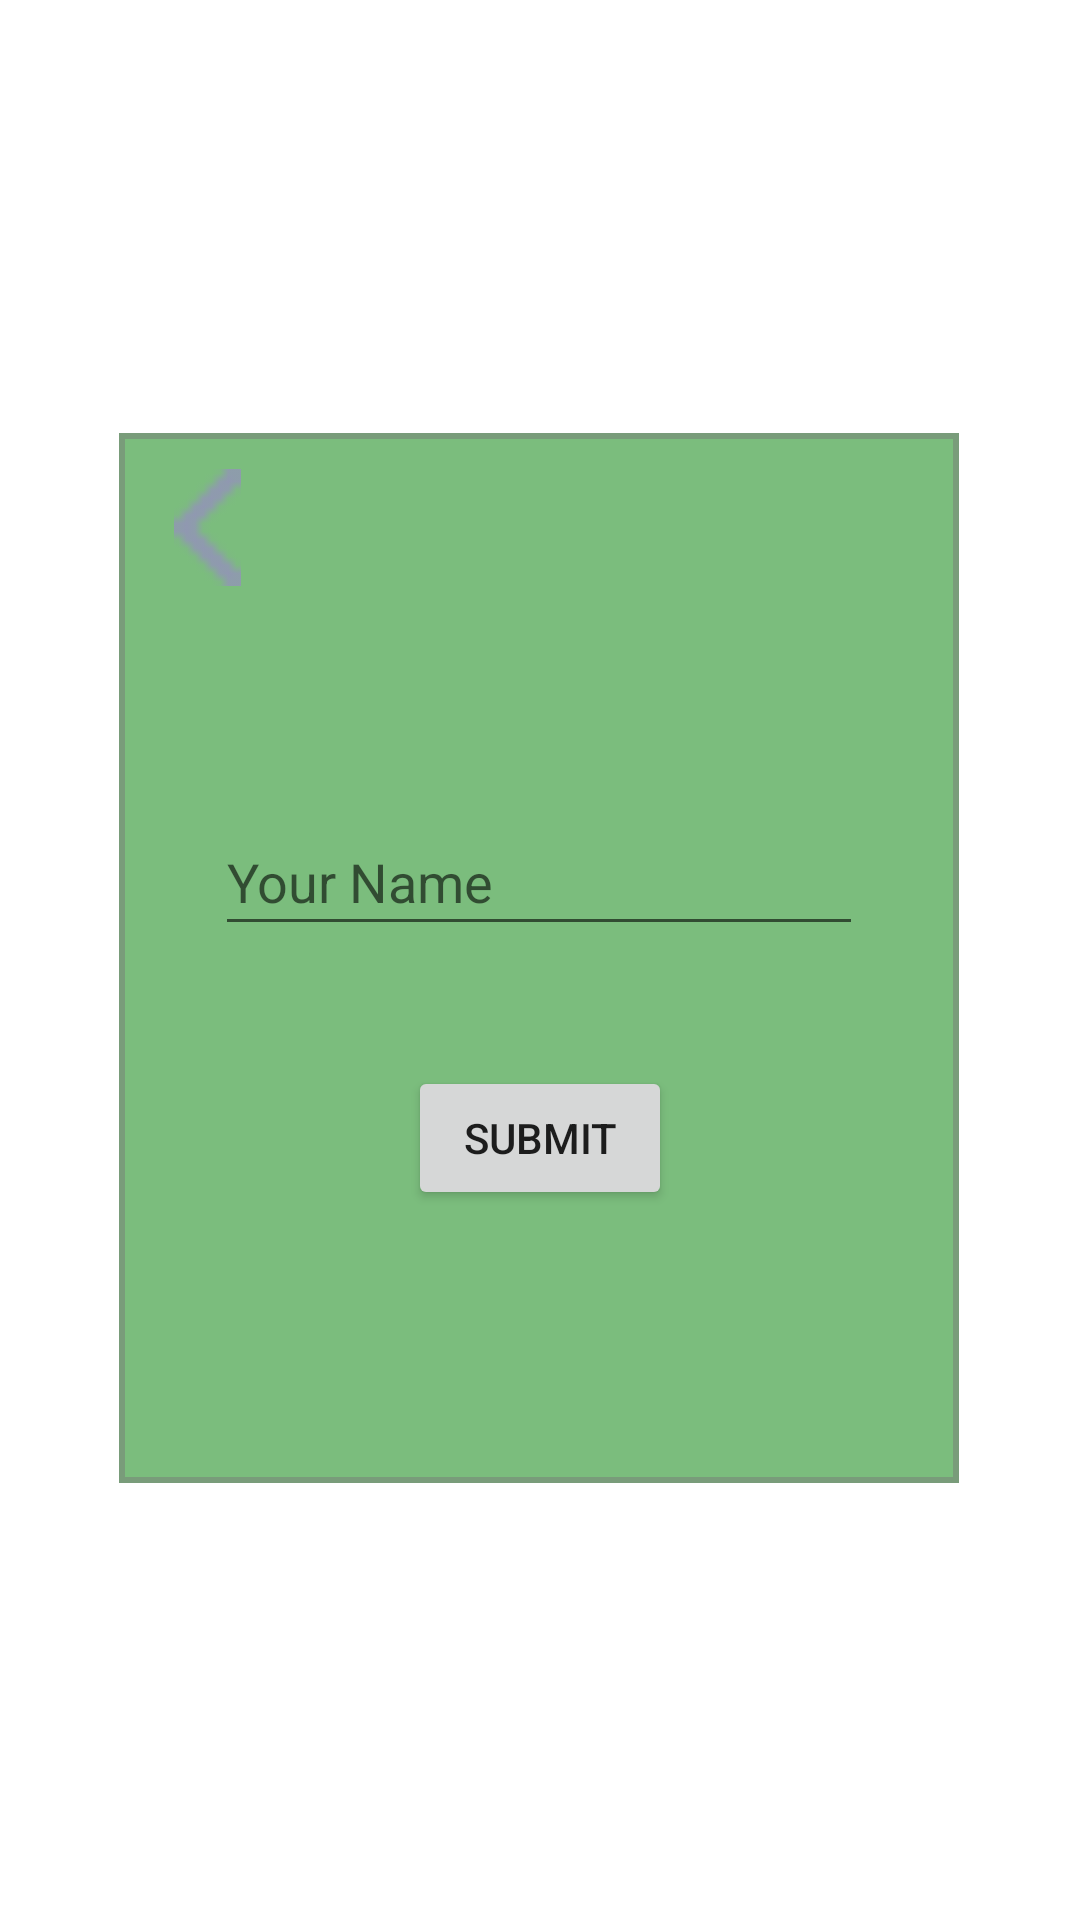

Where icons sit on this 1080 x 1920 app screen, as box=[x1, y1, x2, y2]:
back arrow: box=[174, 469, 241, 586]
